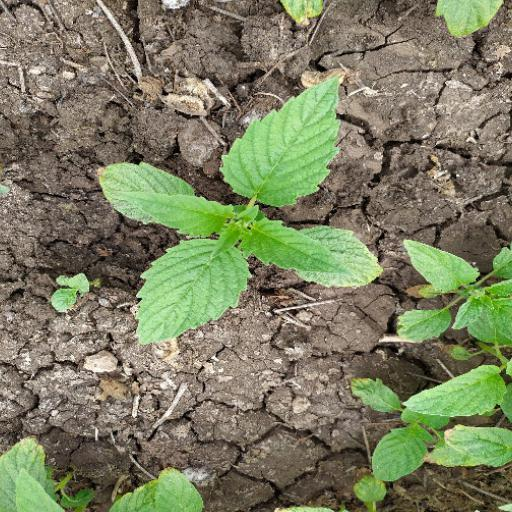crop: (100, 69, 394, 367), (345, 375, 505, 503), (403, 220, 511, 363)
